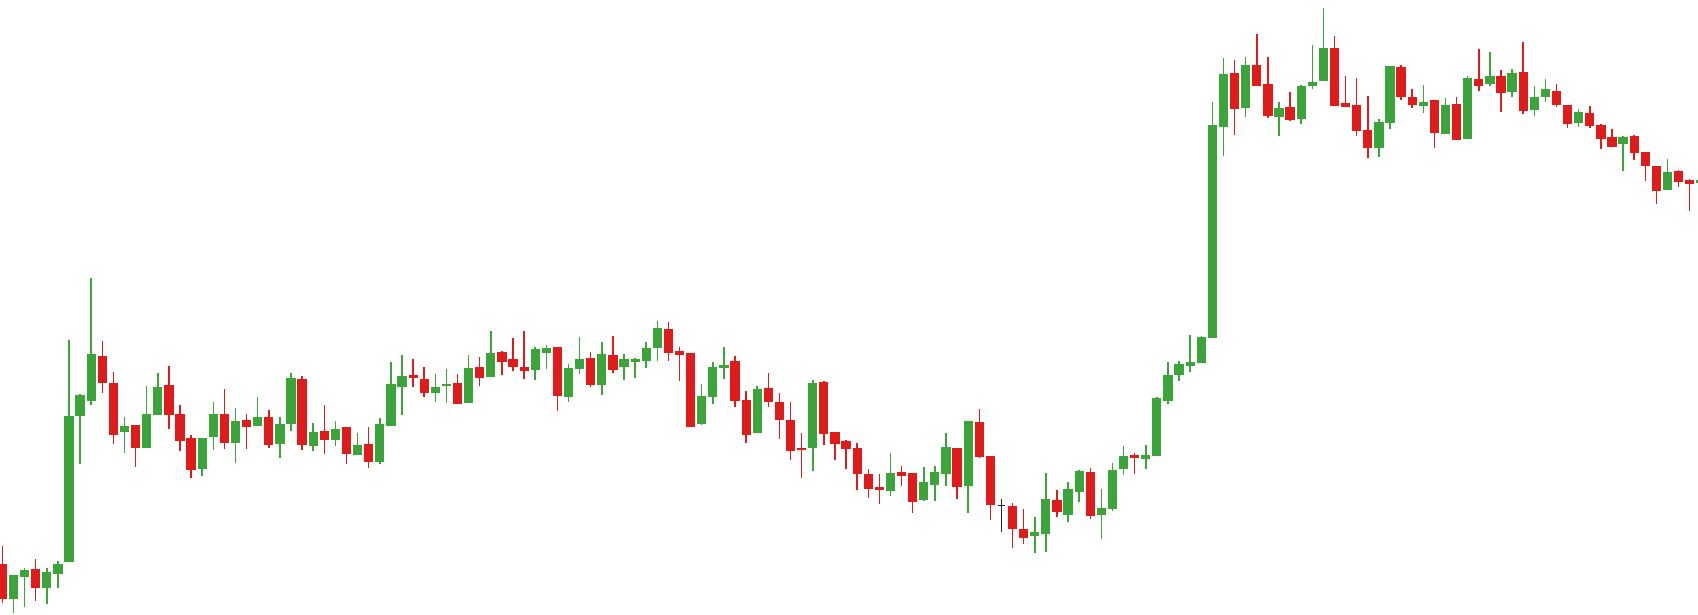buy: (905, 430, 1053, 562)
sell: (1251, 10, 1340, 116), (1384, 40, 1484, 123)
